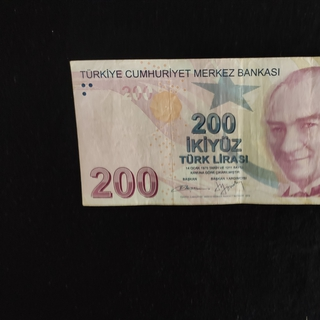200TLFront: (69, 55, 320, 205)
